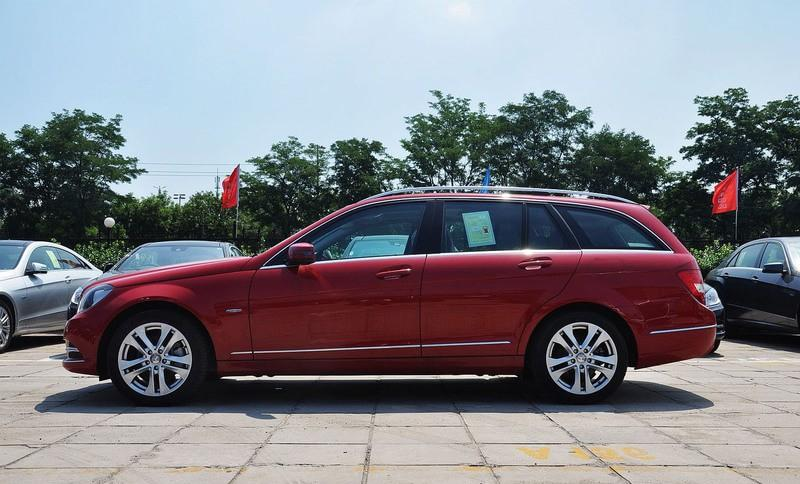Wagon: (63, 184, 719, 405)
